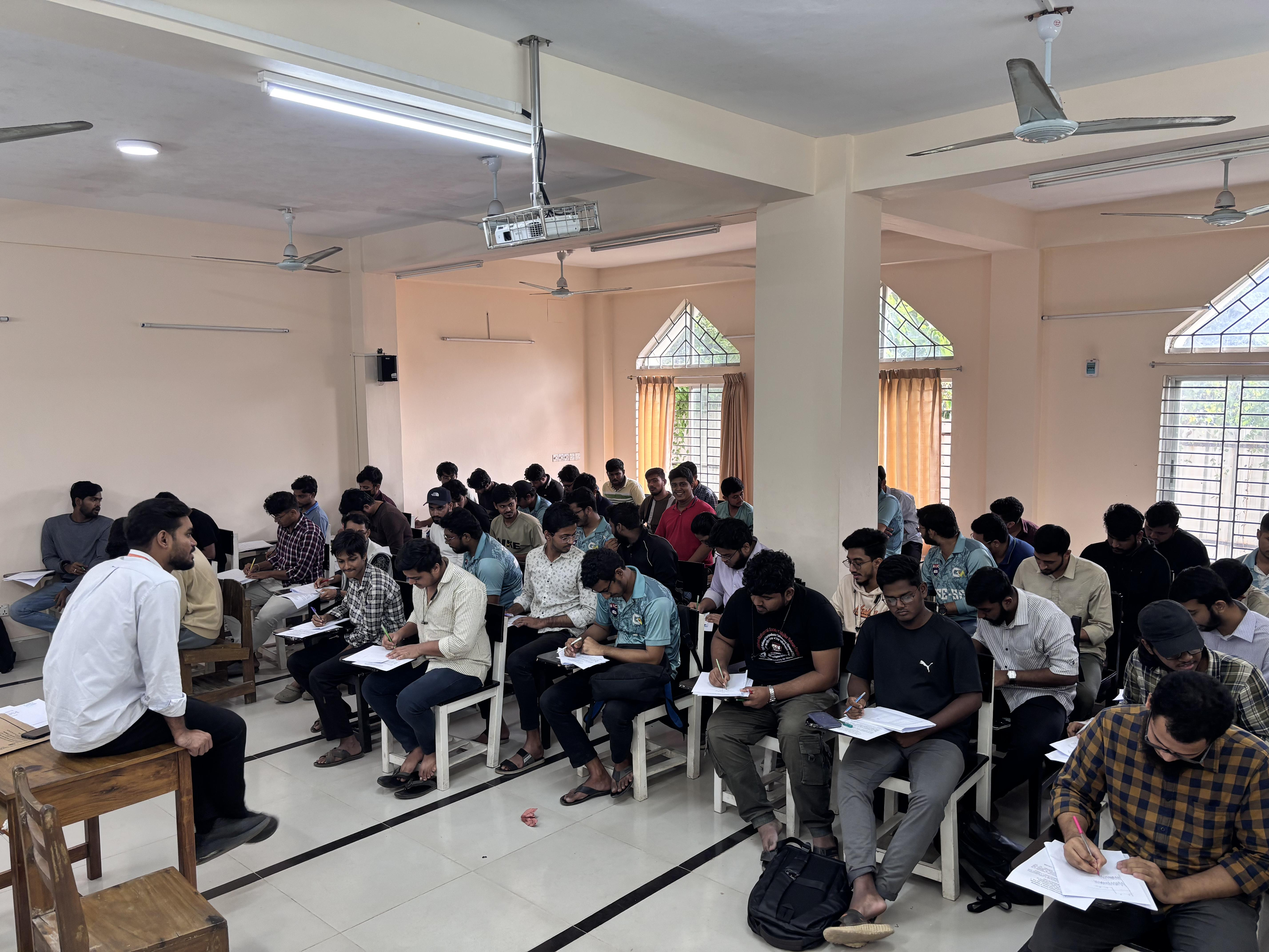copying: (299, 526, 391, 668), (521, 503, 585, 620), (908, 502, 974, 588), (599, 502, 658, 550), (491, 486, 531, 537), (713, 473, 754, 521)
invigilator: (55, 493, 282, 846)
no_cheating: (1064, 678, 1269, 952), (701, 549, 839, 832), (848, 547, 979, 800), (374, 535, 483, 722), (563, 545, 657, 699), (242, 493, 329, 612), (1016, 521, 1086, 614), (434, 509, 505, 598), (834, 520, 893, 621), (696, 515, 758, 606), (1094, 503, 1147, 589), (1142, 496, 1192, 554), (663, 472, 700, 537), (640, 468, 669, 516)
side_talking: (47, 481, 124, 581)
suspicious_moving: (1130, 600, 1257, 696), (600, 455, 634, 500), (426, 486, 452, 529)
